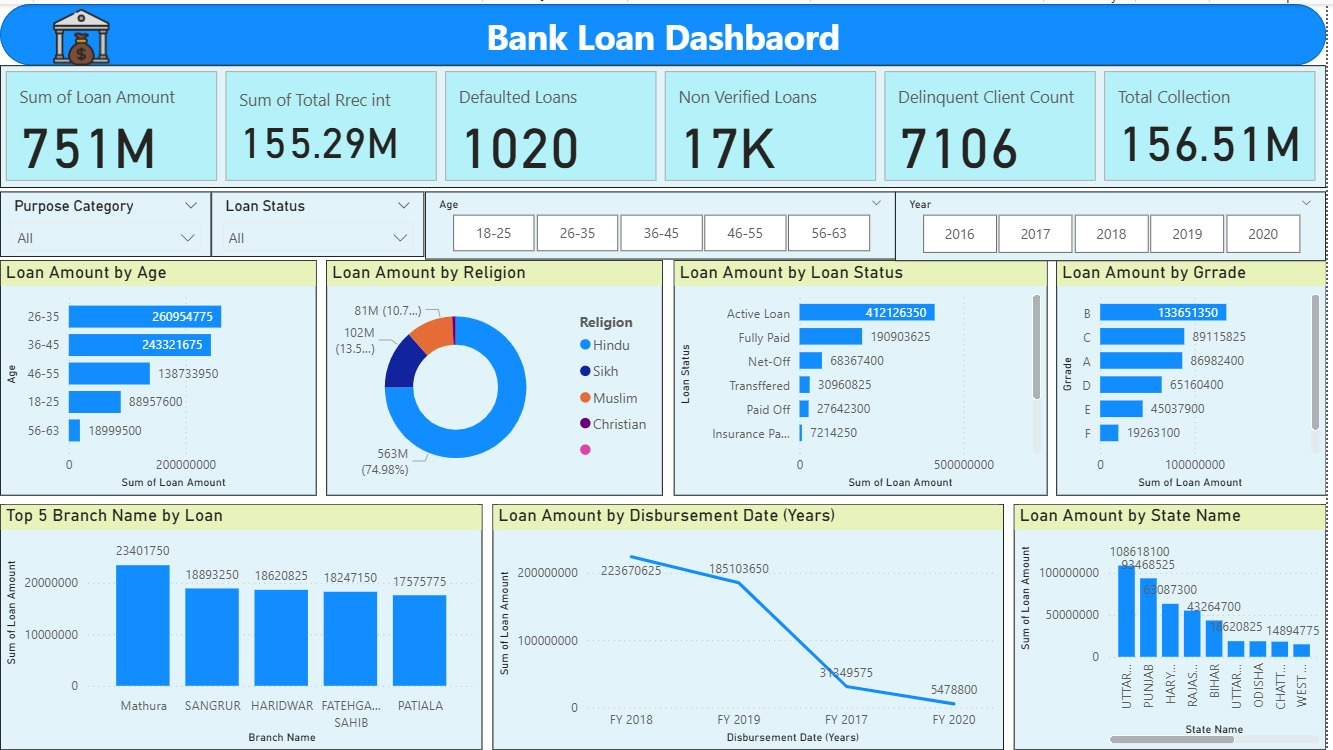

The page's visual inventory and layout, read from the dashboard file:
{"tool":"powerbi","page":{"name":"Page 1","canvas":[1280,720],"ordinal":0},"visuals":[{"type":"barChart","title":" Loan Amount by Loan Status","fields":{"Category":["Banking Data.Loan Status"],"Y":["Sum(Banking Data.Loan Amount)"]},"box":[650.3,247.3,360.7,226.8],"z":0},{"type":"barChart","title":"Loan Amount by Grrade","fields":{"Y":["Sum(Banking Data.Loan Amount)"],"Category":["Banking Data.Grrade"]},"box":[1019.4,247.3,260.6,226.8],"z":1000},{"type":"donutChart","title":" Loan Amount by Religion","fields":{"Category":["Banking Data.Religion"],"Y":["Sum(Banking Data.Loan Amount)"]},"box":[314.9,247.3,324.5,226.8],"z":2000},{"type":"barChart","title":"Loan Amount by Age ","fields":{"Y":["Sum(Banking Data.Loan Amount)"],"Category":["Banking Data.Age "]},"box":[0,247.3,305.2,226.8],"z":3000},{"type":"columnChart","title":"Loan Amount by State Name","fields":{"Y":["Sum(Banking Data.Loan Amount)"],"Category":["Banking Data.State Name"]},"box":[978.4,482.6,301.6,237.7],"z":4000},{"type":"columnChart","title":"Top 5 Branch Name by Loan","fields":{"Category":["Banking Data.Branch Name"],"Y":["Sum(Banking Data.Loan Amount)"]},"box":[0,482.6,465.7,237.7],"z":5000},{"type":"lineChart","title":"Loan Amount by Disbursement Date (Years)","fields":{"Y":["Sum(Banking Data.Loan Amount)"],"Category":["Banking Data.Disbursement Date (Years)"]},"box":[475.3,482.6,493.4,237.7],"z":6000},{"type":"shape","box":[0,0,1280,59.1],"z":7000},{"type":"cardVisual","fields":{"Data":["Sum(Banking Data.Loan Amount)","Sum(Banking Data.Total Rrec int)","Banking Data.Defaulted Loans","Banking Data.Non Verified Loans","Banking Data.Not Verified Loan Count","Banking Data.Total Collection"]},"box":[0,58.6,1280,118.6],"z":8000},{"type":"slicer","fields":{"Values":["Banking Data.Loan Status"]},"box":[204.3,181.4,205.7,62.9],"z":9000},{"type":"slicer","fields":{"Values":["Banking Data.Purpose Category"]},"box":[0,181.4,204.3,62.9],"z":10000},{"type":"slicer","fields":{"Values":["Banking Data.Age "]},"box":[410,181.4,454.3,65.7],"z":11000},{"type":"slicer","fields":{"Values":["Banking Data.Disbursement Date.Variation.Date Hierarchy.Year"]},"box":[864.3,181.4,415.7,67.1],"z":12000},{"type":"image","box":[17.1,0,122.9,64.3],"z":13000}]}

Visuals, with their boxes in screenshot pixels (x1, y1, x2, y2), scaled from the page's 1280x720 canvas onto the 1333x750 screenshot:
" Loan Amount by Loan Status" barChart: select_region(677, 258, 1053, 494)
"Loan Amount by Grrade" barChart: select_region(1062, 258, 1332, 494)
" Loan Amount by Religion" donutChart: select_region(328, 258, 666, 494)
"Loan Amount by Age " barChart: select_region(0, 258, 318, 494)
"Loan Amount by State Name" columnChart: select_region(1019, 503, 1332, 749)
"Top 5 Branch Name by Loan" columnChart: select_region(0, 503, 485, 749)
"Loan Amount by Disbursement Date (Years)" lineChart: select_region(495, 503, 1009, 749)
shape: select_region(0, 0, 1332, 62)
cardVisual - Sum(Banking Data.Loan Amount) x Sum(Banking Data.Total Rrec int): select_region(0, 61, 1332, 185)
slicer - Banking Data.Loan Status: select_region(213, 189, 427, 254)
slicer - Banking Data.Purpose Category: select_region(0, 189, 213, 254)
slicer - Banking Data.Age : select_region(427, 189, 900, 257)
slicer - Banking Data.Disbursement Date.Variation.Date Hierarchy.Year: select_region(900, 189, 1332, 259)
image: select_region(18, 0, 146, 67)
